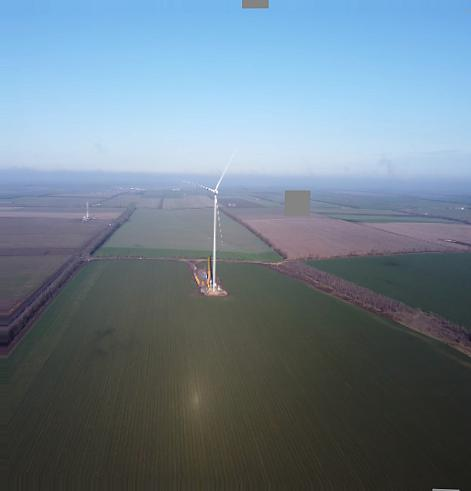wind turbine: (181, 149, 238, 297)
